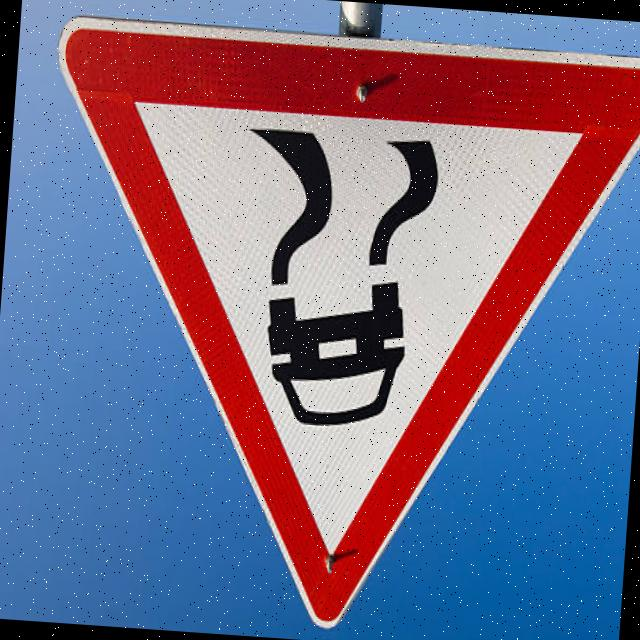road_slippery: (11, 0, 640, 640)
